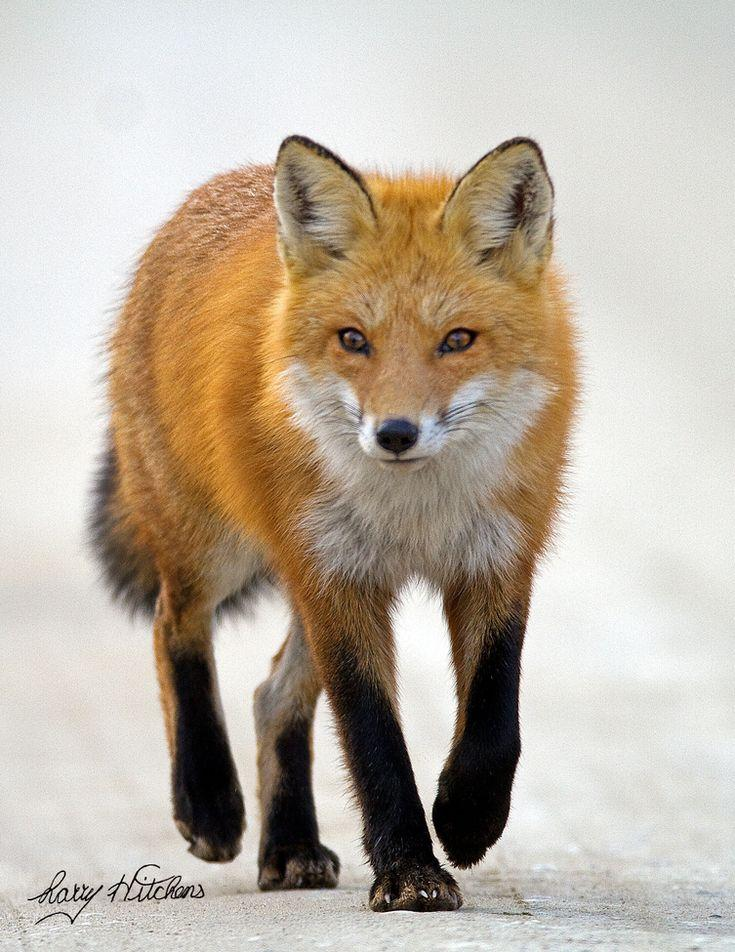fox: (83, 134, 585, 916)
